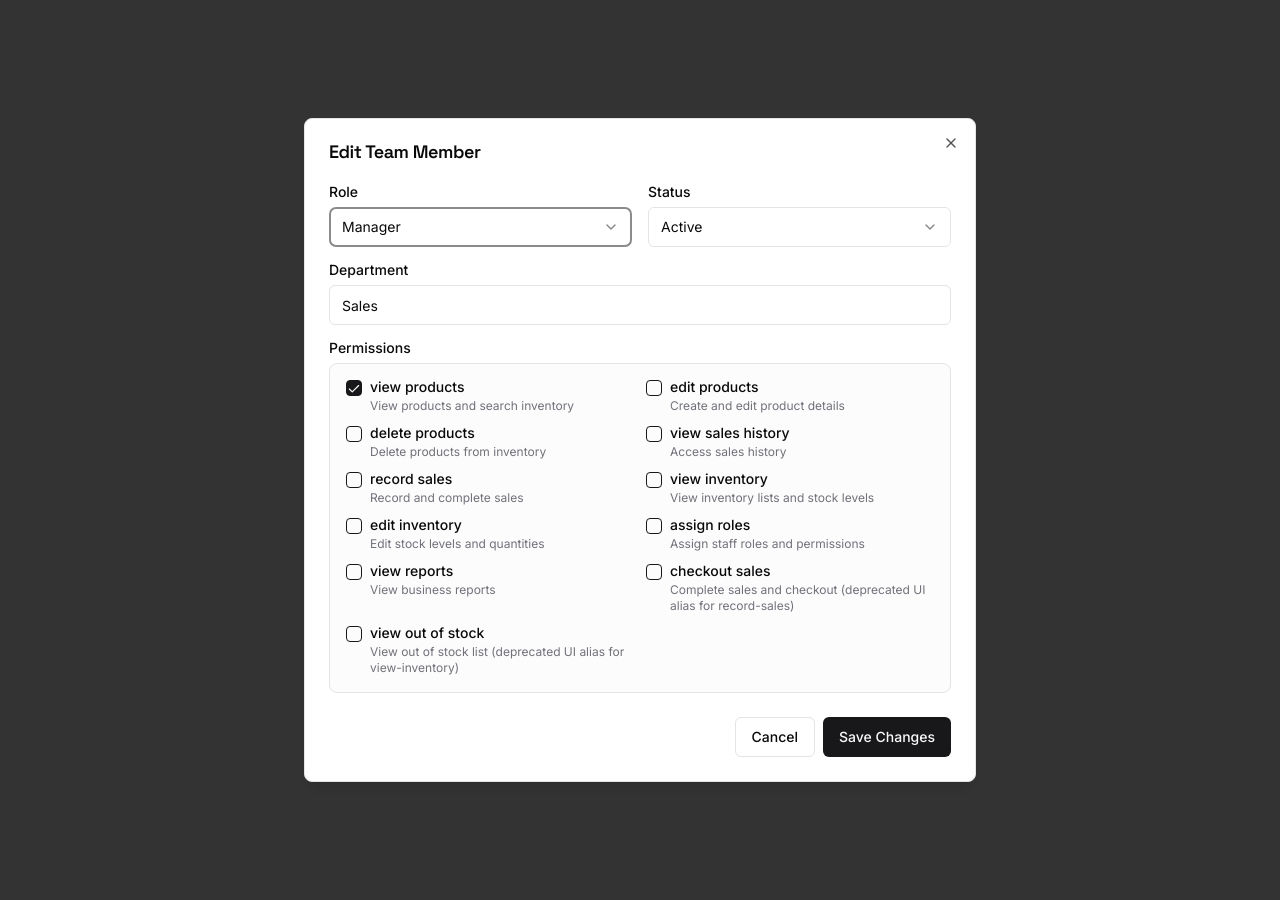
Test: EditMemberDialog › offers investor as a role option
Click the dropdown labelled "Manager" at {"x": 371, "y": 226}, box [329, 207, 632, 247]
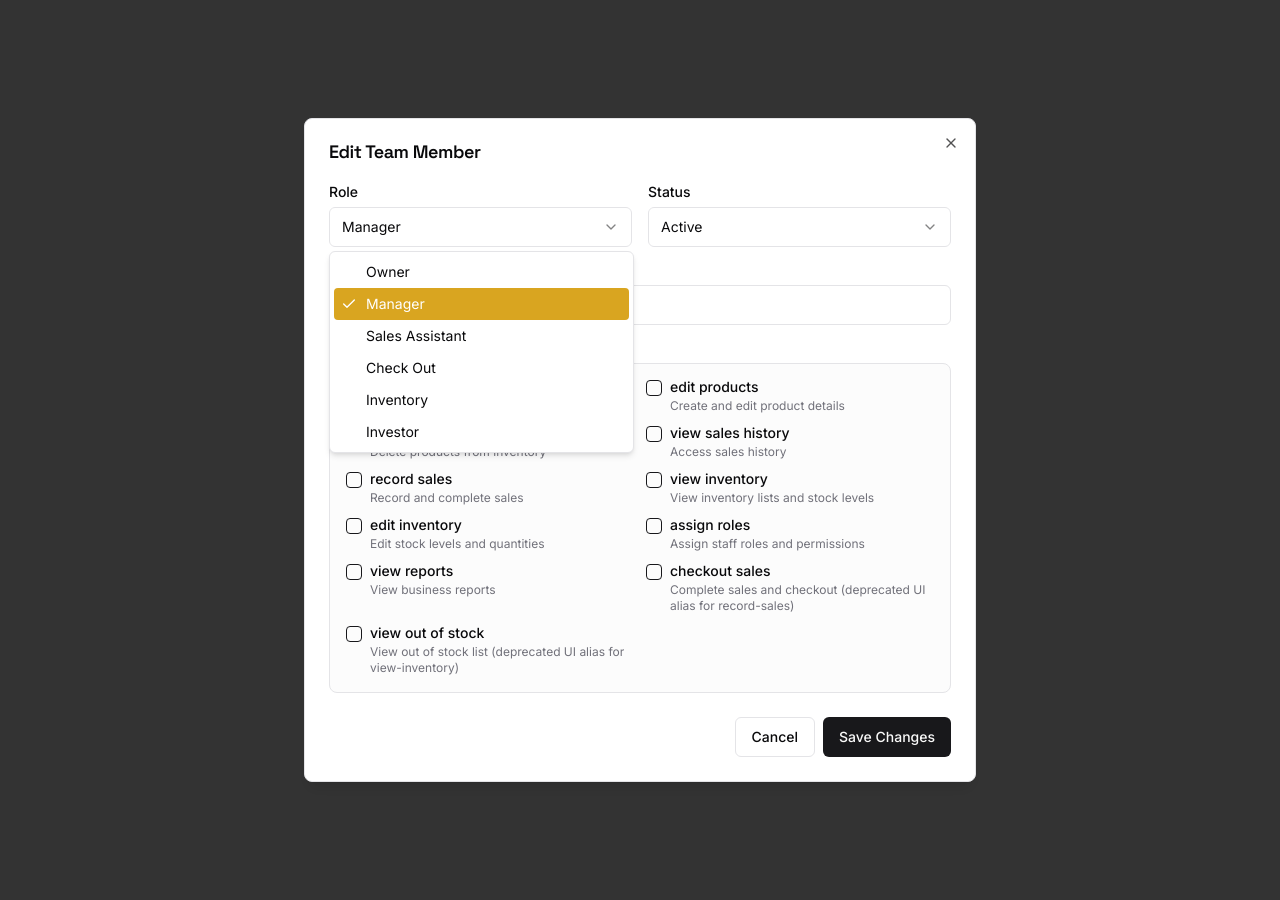
Check: the text "Investor" is shown, box [366, 422, 419, 442]
